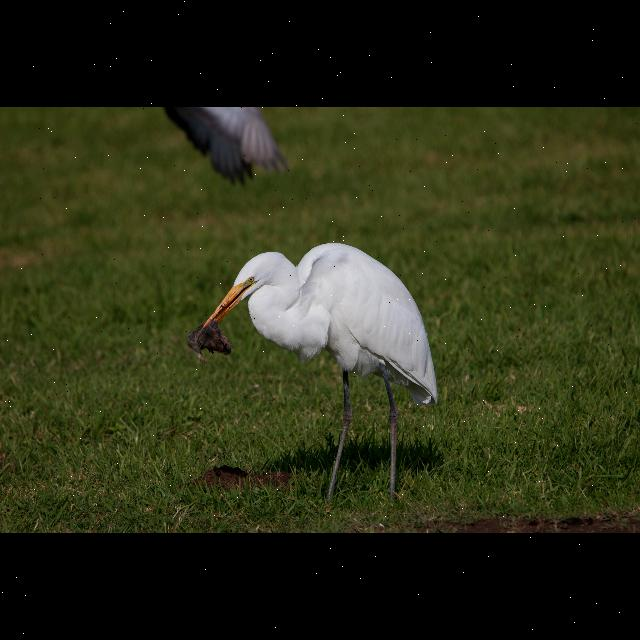egret: (197, 240, 435, 502)
